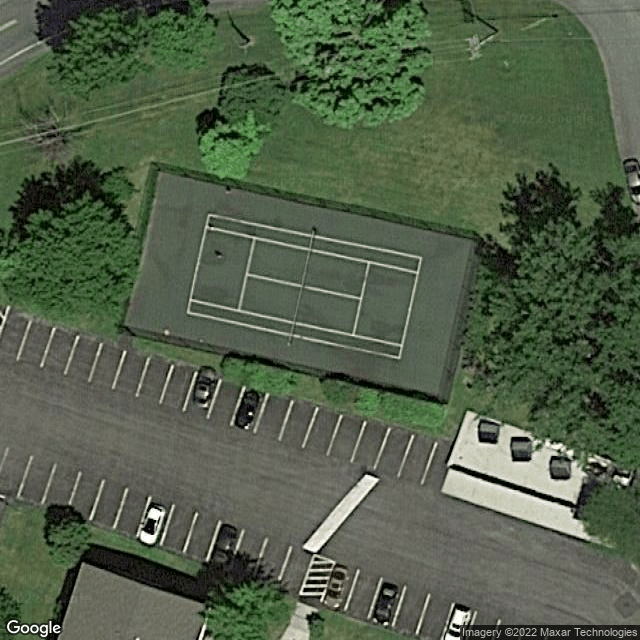Court: (186, 211, 423, 360)
